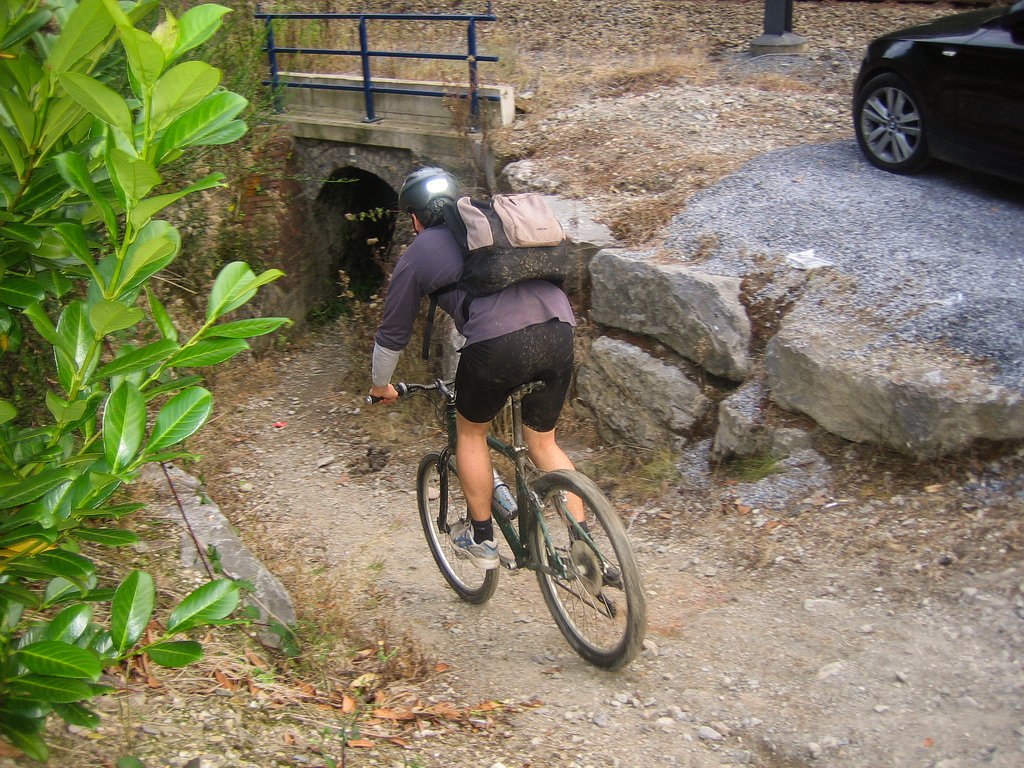Bike: (289, 364, 743, 697)
